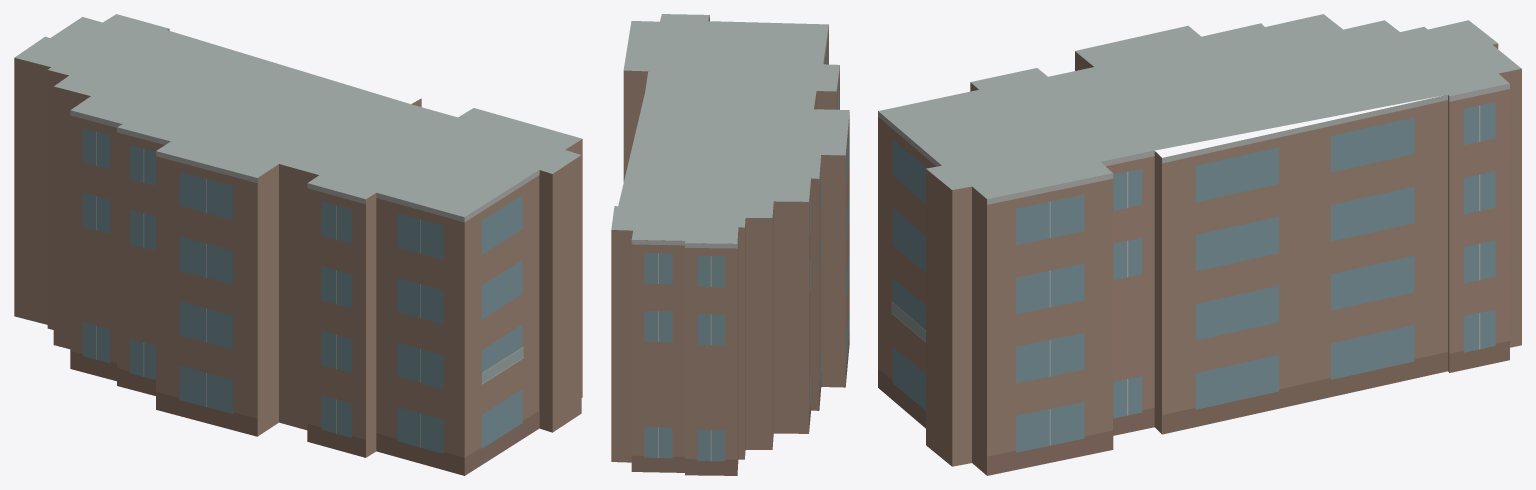
The model's file is survey-upis-32746515.glb.
3 views of the same model, side by side, from view 1: azimuth 30°, elevation 25°; view 2: azimuth 150°, elevation 25°; view 3: azimuth 270°, elevation 25° (orthographic). The views are drawn at different scales.
Visible parts, largest first — view 1: survey-upis-32746515.tmp; view 2: survey-upis-32746515.tmp; view 3: survey-upis-32746515.tmp.
Boxes of the visible parts, left/top/right/bottom form: survey-upis-32746515.tmp: left=14, top=14, right=582, bottom=475; survey-upis-32746515.tmp: left=611, top=14, right=849, bottom=475; survey-upis-32746515.tmp: left=878, top=14, right=1521, bottom=475.
Size of the model in its own units: 17.54 by 12.2 by 25.74.
